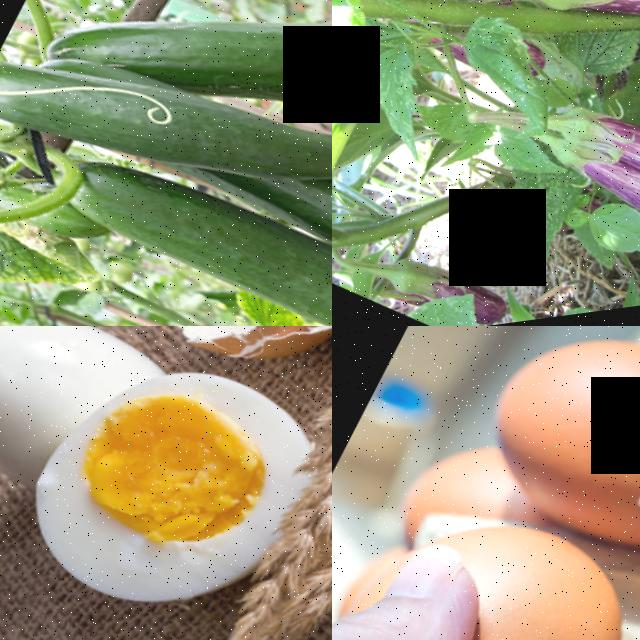cucumber: (60, 103, 332, 326), (0, 5, 229, 230), (168, 0, 332, 233)
egg_: (0, 326, 325, 640), (454, 326, 640, 568), (0, 326, 139, 522)
eggplant: (544, 76, 640, 262), (535, 128, 640, 276), (519, 0, 640, 118)
